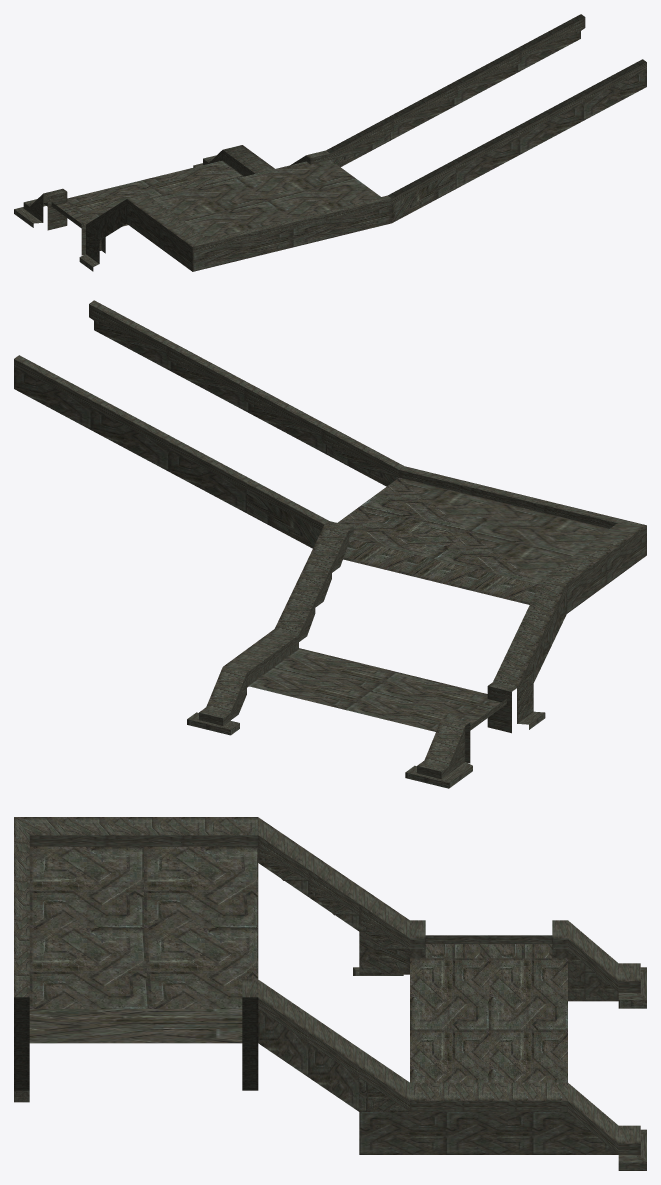
The model's file is CH09_SMAUG_PLAYSURFACE_LAIRSTAIRSIDES.fbx.
The picture shows the model from 3 angles, top to bottom: view 1: azimuth 30°, elevation 25°; view 2: azimuth 150°, elevation 25°; view 3: azimuth 270°, elevation 25°; orthographic projection. The views are drawn at different scales.
Parts seen in each view (by area): view 1: CH09_SMAUG_PLAYSURFACE_LAIRSTAIRSIDES; view 2: CH09_SMAUG_PLAYSURFACE_LAIRSTAIRSIDES; view 3: CH09_SMAUG_PLAYSURFACE_LAIRSTAIRSIDES.
Boxes of the visible parts, box(x1,y1,x2,y2) form: CH09_SMAUG_PLAYSURFACE_LAIRSTAIRSIDES: box(14, 14, 646, 271); CH09_SMAUG_PLAYSURFACE_LAIRSTAIRSIDES: box(14, 300, 646, 788); CH09_SMAUG_PLAYSURFACE_LAIRSTAIRSIDES: box(14, 817, 646, 1170).
Size of the model in its own units: 313213 by 106000 by 200285.
1 material, 1 textured.
